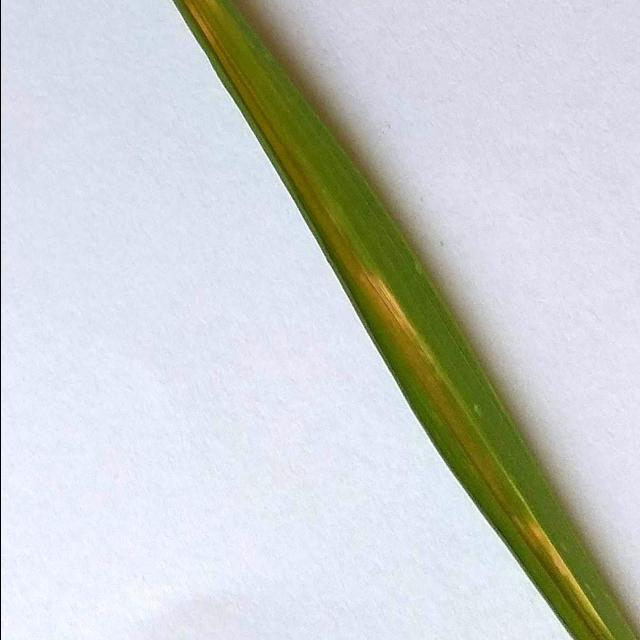Leaf blast: (156, 0, 640, 640)
